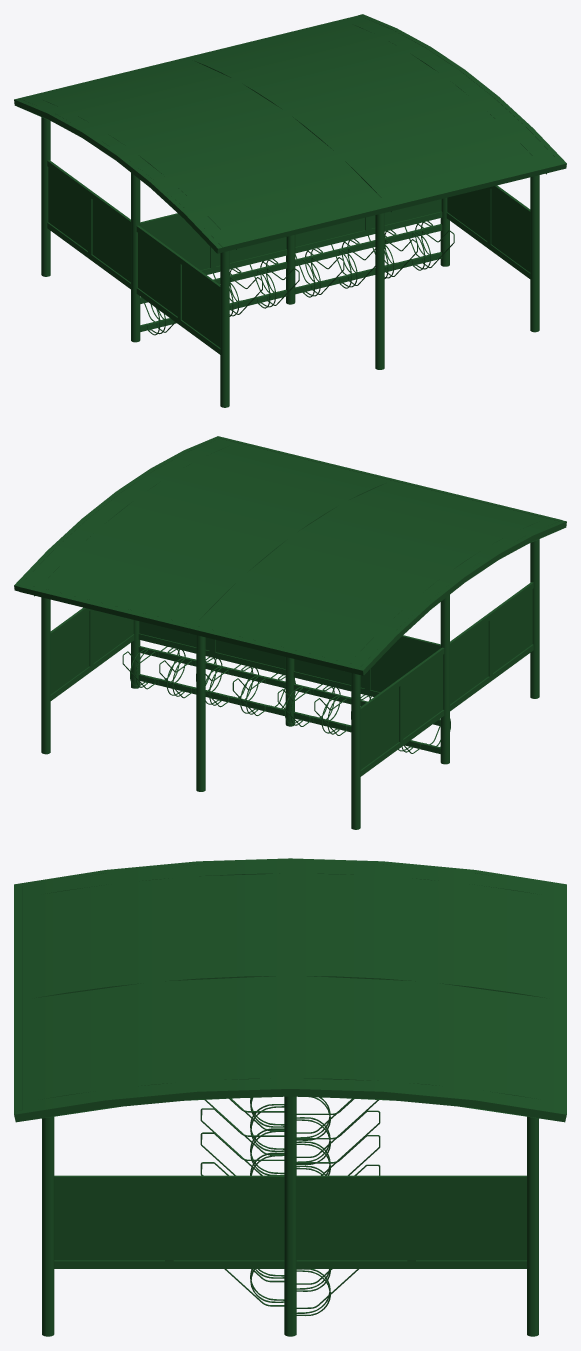
The model's file is BikeShed.glb.
3 renders of one model, top to bottom at view 1: azimuth 30°, elevation 25°; view 2: azimuth 150°, elevation 25°; view 3: azimuth 270°, elevation 25°, orthographic. The views are drawn at different scales.
Parts seen in each view (by area): view 1: L_ebc4f920_fc86_4cbd_bb33_2ed544813d57_I112; view 2: L_ebc4f920_fc86_4cbd_bb33_2ed544813d57_I112; view 3: L_ebc4f920_fc86_4cbd_bb33_2ed544813d57_I112.
Boxes of the visible parts, <box> form: L_ebc4f920_fc86_4cbd_bb33_2ed544813d57_I112: <box>14,14,566,407</box>; L_ebc4f920_fc86_4cbd_bb33_2ed544813d57_I112: <box>14,436,566,829</box>; L_ebc4f920_fc86_4cbd_bb33_2ed544813d57_I112: <box>14,858,566,1336</box>.
Size of the model in its own units: 4.51 by 2.35 by 4.56.
